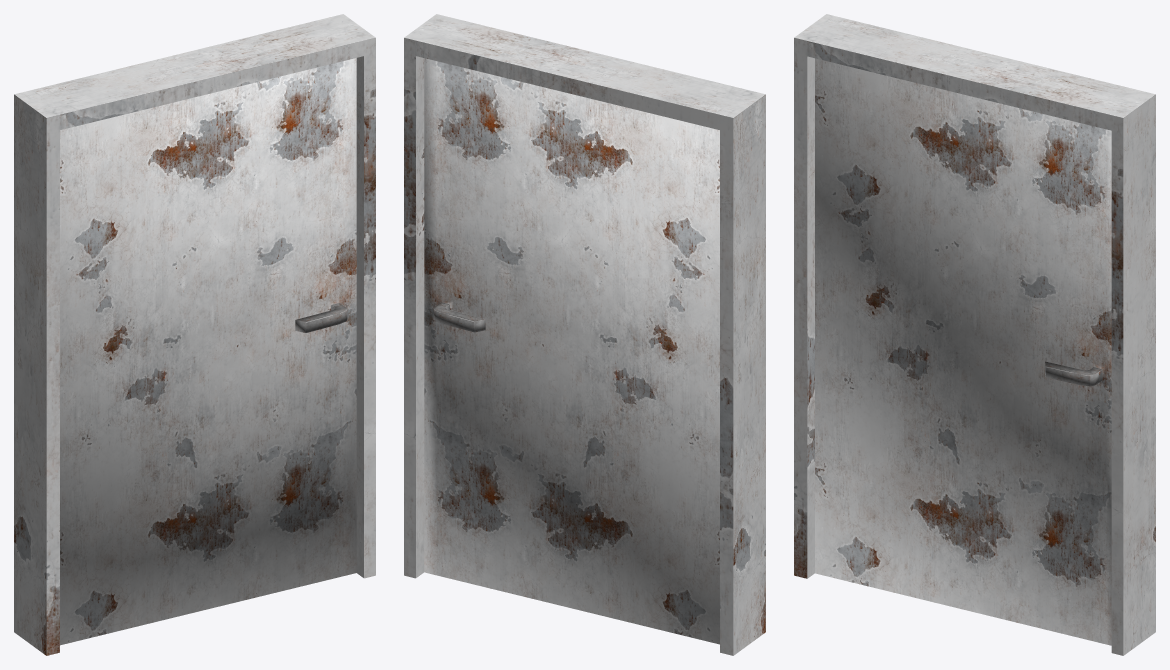
Rendered from Scp249.glb.
3 renders of one model, left to right at view 1: azimuth 30°, elevation 25°; view 2: azimuth 150°, elevation 25°; view 3: azimuth 330°, elevation 25°, orthographic.
Parts seen in each view (by area): view 1: Cube.002, Cube.001; view 2: Cube.002, Cube.001; view 3: Cube.002, Cube.001.
Boxes of the visible parts, x1,y1,x2,y2 form: Cube.002: (60, 58, 356, 645); Cube.001: (14, 14, 375, 655); Cube.002: (424, 58, 719, 644); Cube.001: (404, 14, 765, 655); Cube.002: (815, 58, 1111, 645); Cube.001: (794, 14, 1155, 655).
Bounding box in the file's own units: 2.11 × 3.29 × 0.4412.
Materials: 2 (2 with a texture image).
